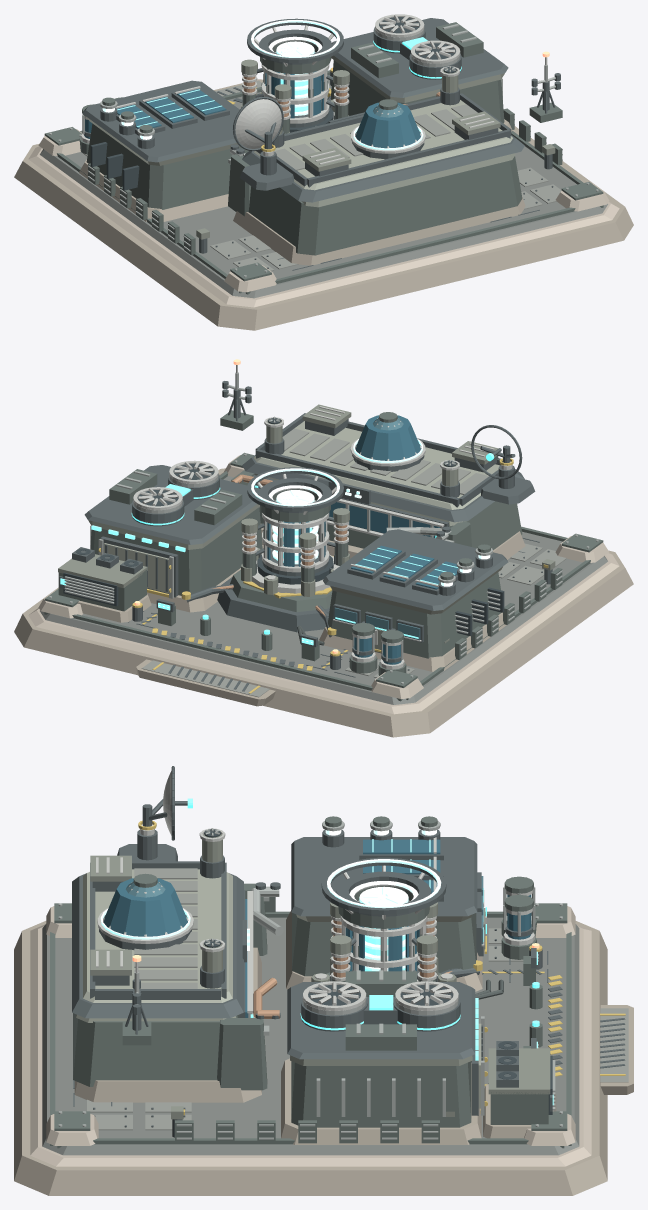
Rendered from research-active.glb.
3 views of the same model, one above another, from view 1: azimuth 30°, elevation 25°; view 2: azimuth 150°, elevation 25°; view 3: azimuth 270°, elevation 25° (orthographic). The views are drawn at different scales.
Parts seen in each view (by area): view 1: static__olive_dark, static__steel_dark, static__foundation, static__deck, static__concrete_high, static__steel_light, static__olive, static__deck_light, static__glass_dark, static__olive_light, static__steel, static__recess (+3 smaller); view 2: static__steel_dark, static__olive_dark, static__foundation, static__deck, static__concrete_high, static__steel_light, static__glass_dark, static__olive, static__deck_light, static__olive_light, static__steel, static__recess (+6 smaller); view 3: static__olive_dark, static__steel_dark, static__foundation, static__deck, static__concrete_high, static__steel_light, static__olive, static__deck_light, static__glass_dark, static__olive_light, static__steel, reactor_core__core (+7 smaller).
Boxes of the visible parts, left/top/right/bottom form: static__olive_dark: left=43, top=22, right=603, bottom=294; static__steel_dark: left=82, top=18, right=560, bottom=270; static__foundation: left=14, top=79, right=633, bottom=330; static__deck: left=40, top=75, right=607, bottom=298; static__concrete_high: left=28, top=129, right=619, bottom=307; static__steel_light: left=81, top=14, right=547, bottom=164; static__olive: left=196, top=55, right=555, bottom=239; static__deck_light: left=83, top=80, right=561, bottom=271; static__glass_dark: left=84, top=52, right=420, bottom=148; static__olive_light: left=87, top=100, right=512, bottom=190; static__steel: left=49, top=24, right=598, bottom=277; static__recess: left=90, top=17, right=456, bottom=190; static__steel_dark: left=59, top=381, right=552, bottom=691; static__olive_dark: left=44, top=410, right=603, bottom=701; static__foundation: left=14, top=468, right=633, bottom=737; static__deck: left=40, top=476, right=607, bottom=704; static__concrete_high: left=28, top=455, right=619, bottom=714; static__steel_light: left=133, top=365, right=512, bottom=669; static__glass_dark: left=258, top=415, right=458, bottom=664; static__olive: left=58, top=404, right=555, bottom=649; static__deck_light: left=141, top=428, right=566, bottom=697; static__olive_light: left=104, top=421, right=502, bottom=614; static__steel: left=49, top=372, right=598, bottom=684; static__recess: left=63, top=417, right=504, bottom=636; static__olive_dark: left=50, top=816, right=571, bottom=1148; static__steel_dark: left=72, top=829, right=625, bottom=1137; static__foundation: left=14, top=910, right=633, bottom=1195; static__deck: left=42, top=917, right=579, bottom=1155; static__concrete_high: left=30, top=906, right=591, bottom=1166; static__steel_light: left=96, top=825, right=534, bottom=1014; static__olive: left=76, top=834, right=550, bottom=1119; static__deck_light: left=87, top=868, right=628, bottom=1130; static__glass_dark: left=103, top=839, right=531, bottom=1017; static__olive_light: left=83, top=869, right=481, bottom=1108; static__steel: left=58, top=820, right=562, bottom=1139; reactor_core__core: left=327, top=859, right=441, bottom=971.
Bounding box in the file's own units: 20.6 × 8.14 × 20.67.
